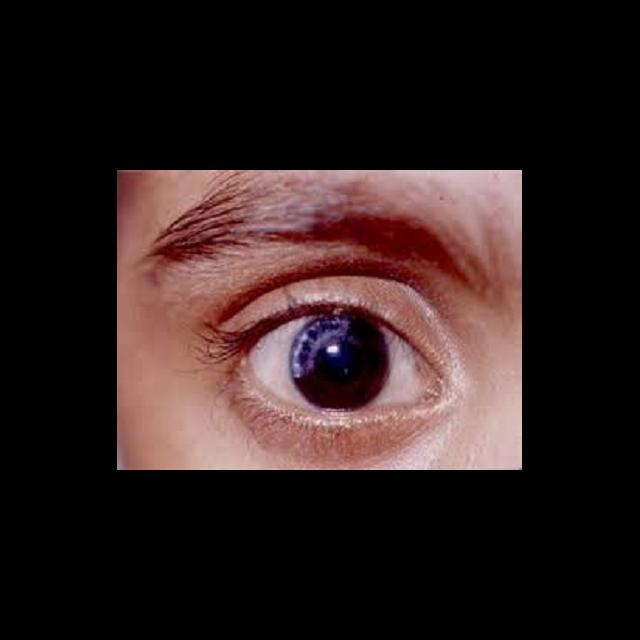eye: (250, 311, 437, 412)
iris: (292, 312, 389, 410)
